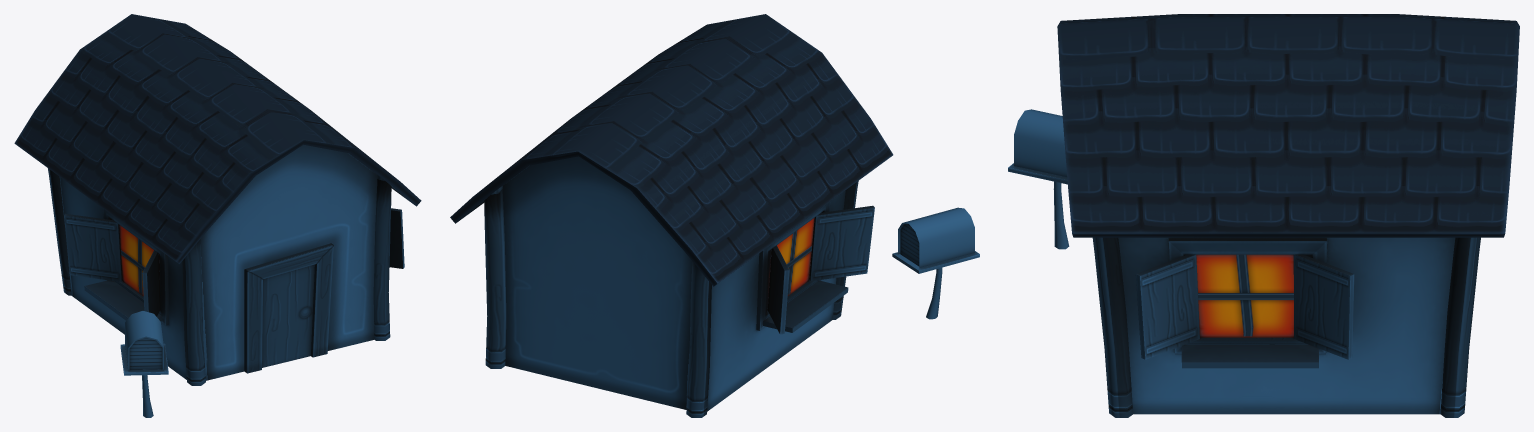
The model's file is House4.FBX.
3 views of the same model, side by side, from view 1: azimuth 30°, elevation 25°; view 2: azimuth 150°, elevation 25°; view 3: azimuth 270°, elevation 25° (orthographic). The views are drawn at different scales.
Visible parts, largest first — view 1: House4; view 2: House4; view 3: House4.
Boxes of the visible parts, left/top/right/bottom form: House4: left=14, top=14, right=421, bottom=417; House4: left=450, top=14, right=979, bottom=417; House4: left=1008, top=14, right=1519, bottom=417.
Size of the model in its own units: 208 by 151 by 214.
